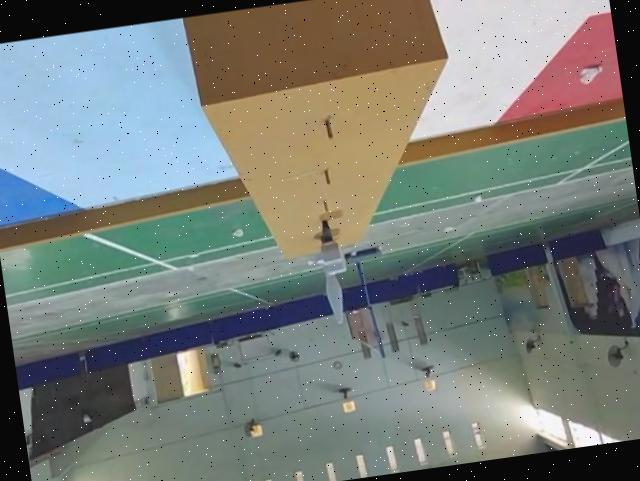Fist: (313, 213, 344, 276)
Sph: (306, 218, 351, 329)
